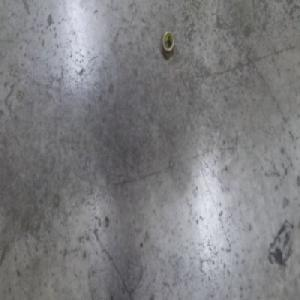Nut: (161, 28, 175, 60)
